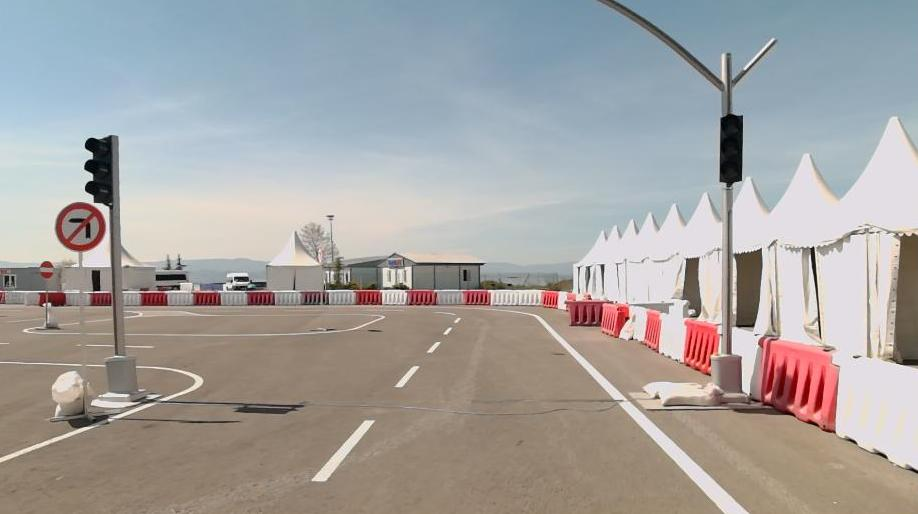nesne: (0, 305, 750, 512), (0, 308, 460, 514), (280, 315, 749, 512), (0, 341, 418, 504), (0, 330, 332, 383), (833, 349, 917, 472), (1, 361, 202, 411), (755, 335, 838, 431), (0, 329, 335, 350), (644, 376, 719, 413), (719, 325, 758, 396), (82, 135, 119, 209), (54, 201, 105, 254), (50, 369, 96, 418), (681, 316, 718, 374), (719, 117, 746, 185), (658, 311, 685, 360), (38, 331, 326, 335), (600, 302, 629, 338), (566, 299, 600, 326), (619, 306, 645, 339), (274, 291, 329, 306), (491, 289, 542, 305), (642, 308, 661, 349), (407, 289, 436, 306), (355, 289, 381, 306), (141, 291, 168, 307), (6, 291, 39, 304), (327, 290, 355, 305), (247, 291, 277, 305), (463, 289, 489, 305), (436, 290, 463, 305), (167, 290, 194, 305), (41, 291, 66, 307), (381, 289, 405, 305), (90, 291, 112, 308), (67, 292, 91, 307), (193, 291, 220, 304), (89, 343, 155, 348), (220, 291, 245, 304), (542, 289, 559, 308), (38, 260, 54, 279), (123, 291, 141, 306)
